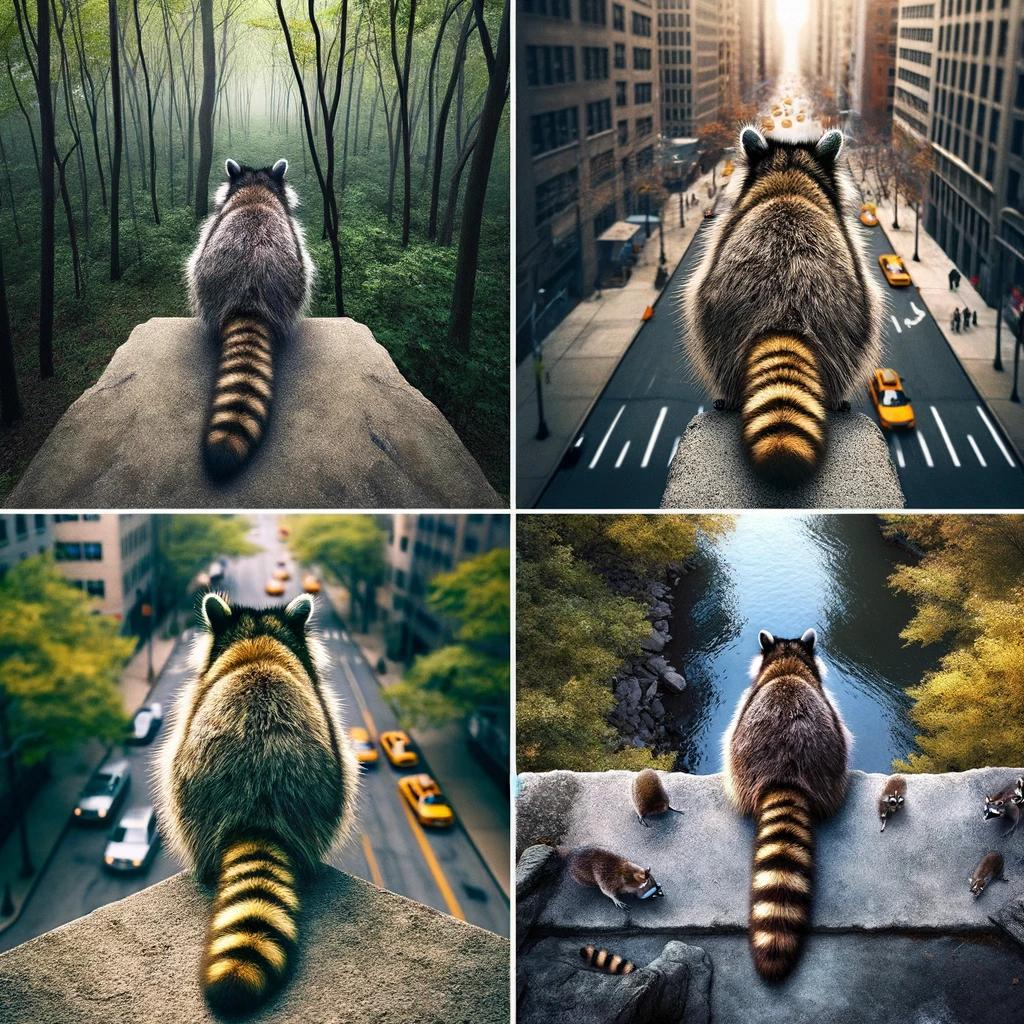raccoon: (142, 573, 370, 1024), (670, 110, 903, 507), (713, 618, 863, 1005), (168, 143, 328, 492), (570, 932, 643, 987), (975, 772, 1024, 835)
